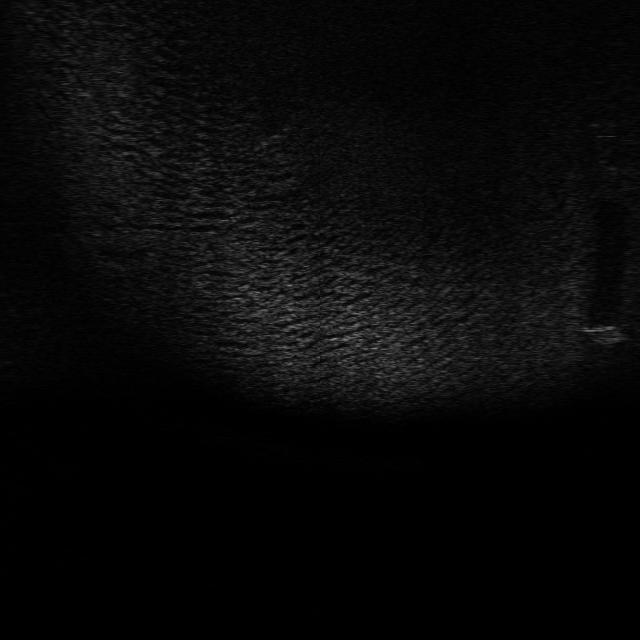cube: (580, 318, 630, 346)
plane: (254, 122, 296, 152)
